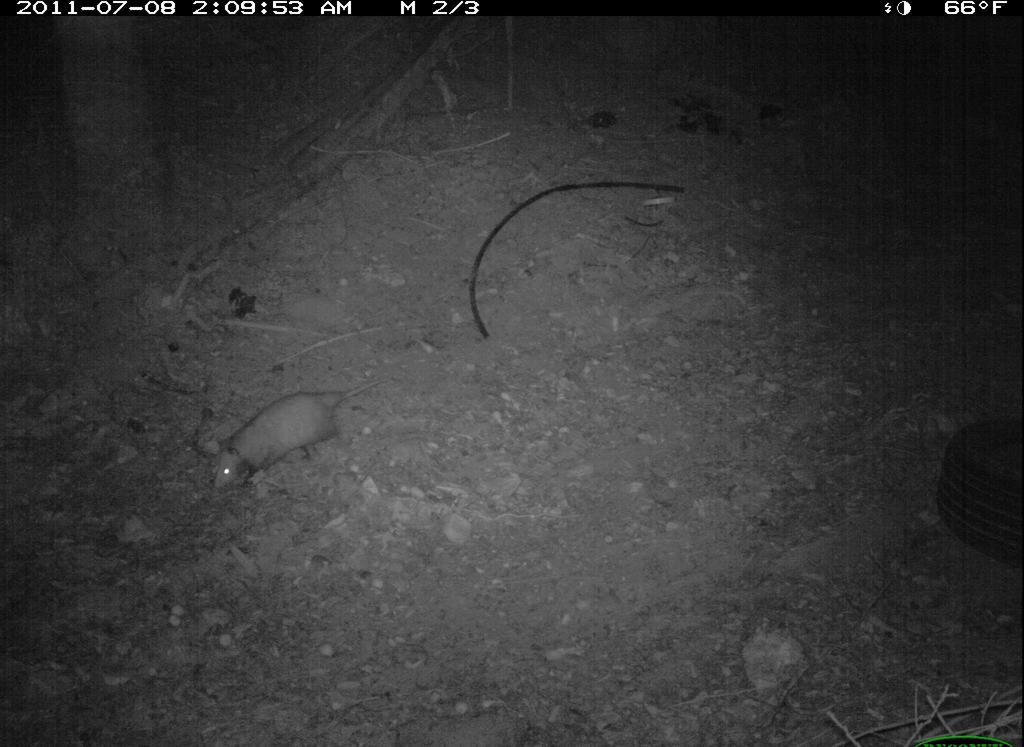opossum: (208, 374, 401, 498)
